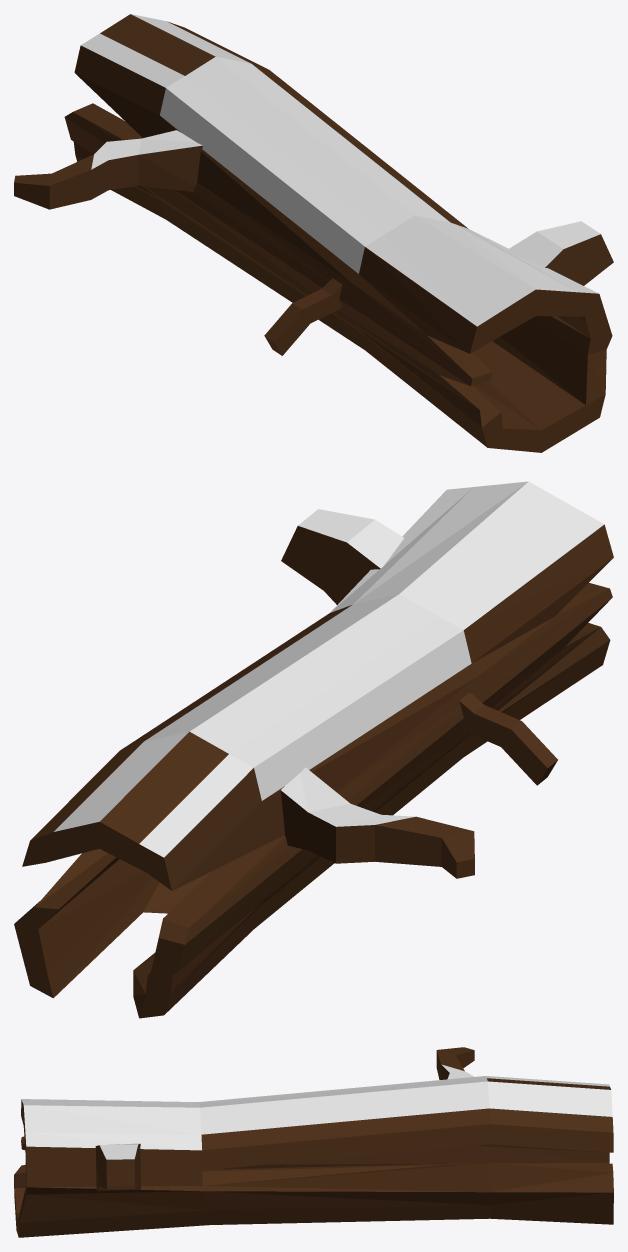
Rendered from Log_Sitting.fbx.
The picture shows the model from 3 angles, top to bottom: view 1: azimuth 30°, elevation 25°; view 2: azimuth 150°, elevation 25°; view 3: azimuth 270°, elevation 25°; orthographic projection. The views are drawn at different scales.
Parts seen in each view (by area): view 1: LogBranch1; view 2: LogBranch1; view 3: LogBranch1.
Part boxes in pixels (x1,y1,x2,y2): LogBranch1: (14,14,613,452); LogBranch1: (14,481,613,1018); LogBranch1: (14,1047,613,1237).
Size of the model in its own units: 1.09 by 0.508 by 1.97.
